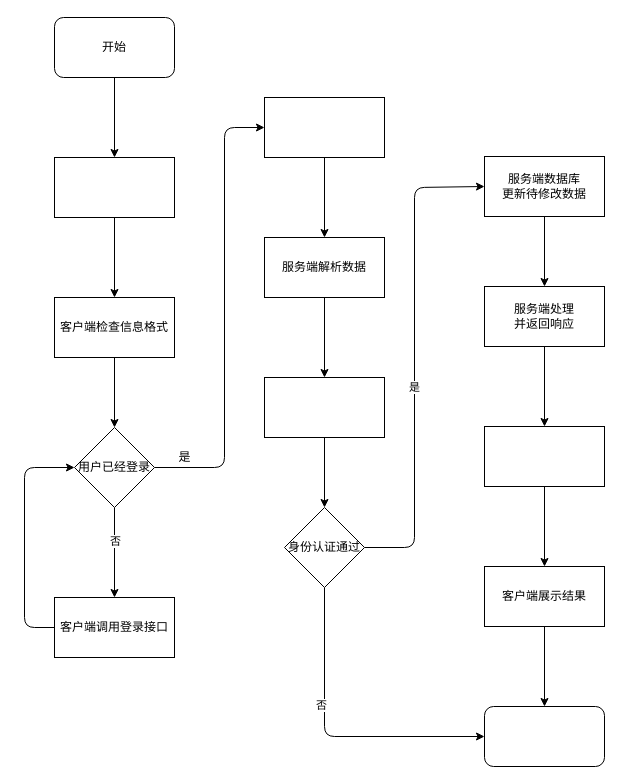
Some shapes in this 622 by 784 pixel diagram are drawn without their labels. Each missing label, with the centre of its shape:
"向服务端发送 更新数据请求" belongs at (x=324, y=127).
"客户端从本地缓存读取待修改记录的主键" belongs at (x=114, y=187).
"客户端解析响应" belongs at (x=544, y=456).
"服务端解析cookie" belongs at (x=324, y=407).
"结束" belongs at (x=544, y=736).
